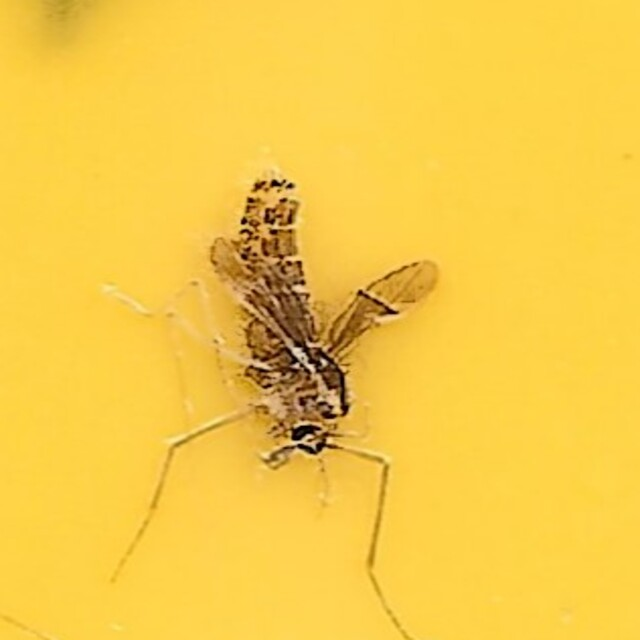Nematocera: (203, 166, 437, 474)
